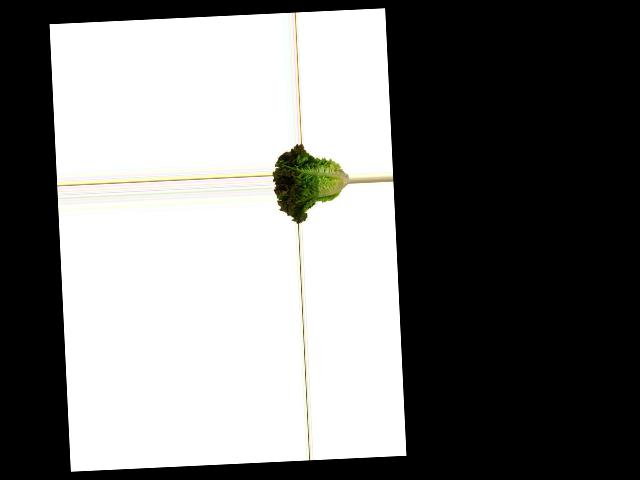lettuce: (272, 142, 351, 224)
